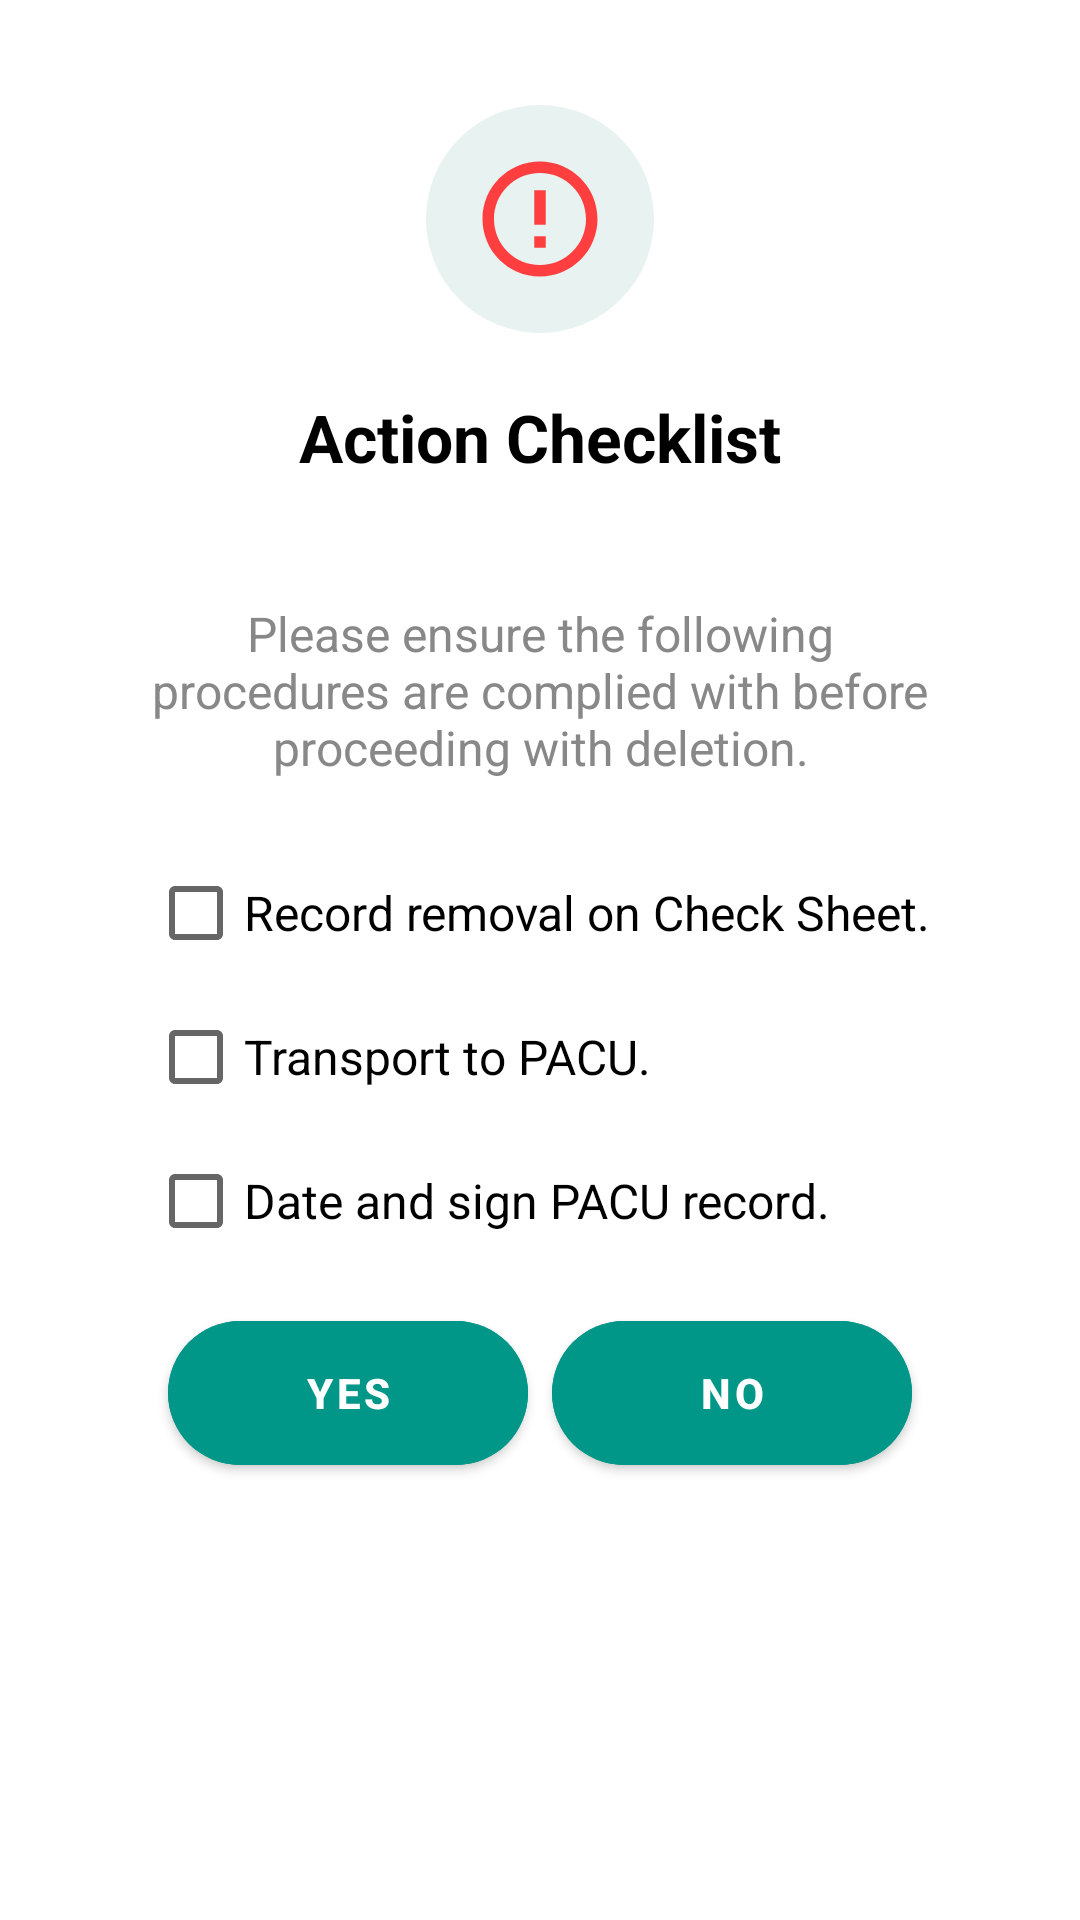

Point at icon controls on the screen. Image size 1080w x 1920h, points as point (x, y).
alert: point (540, 219)
